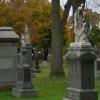Statue: (64, 2, 95, 57)
